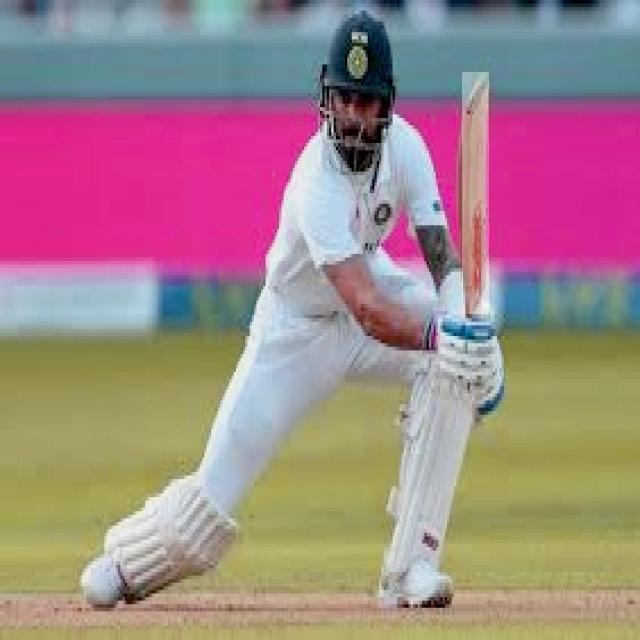bat: (464, 70, 495, 322)
toe: (456, 85, 491, 101)
